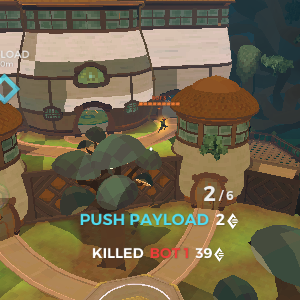model: (156, 115, 168, 134)
